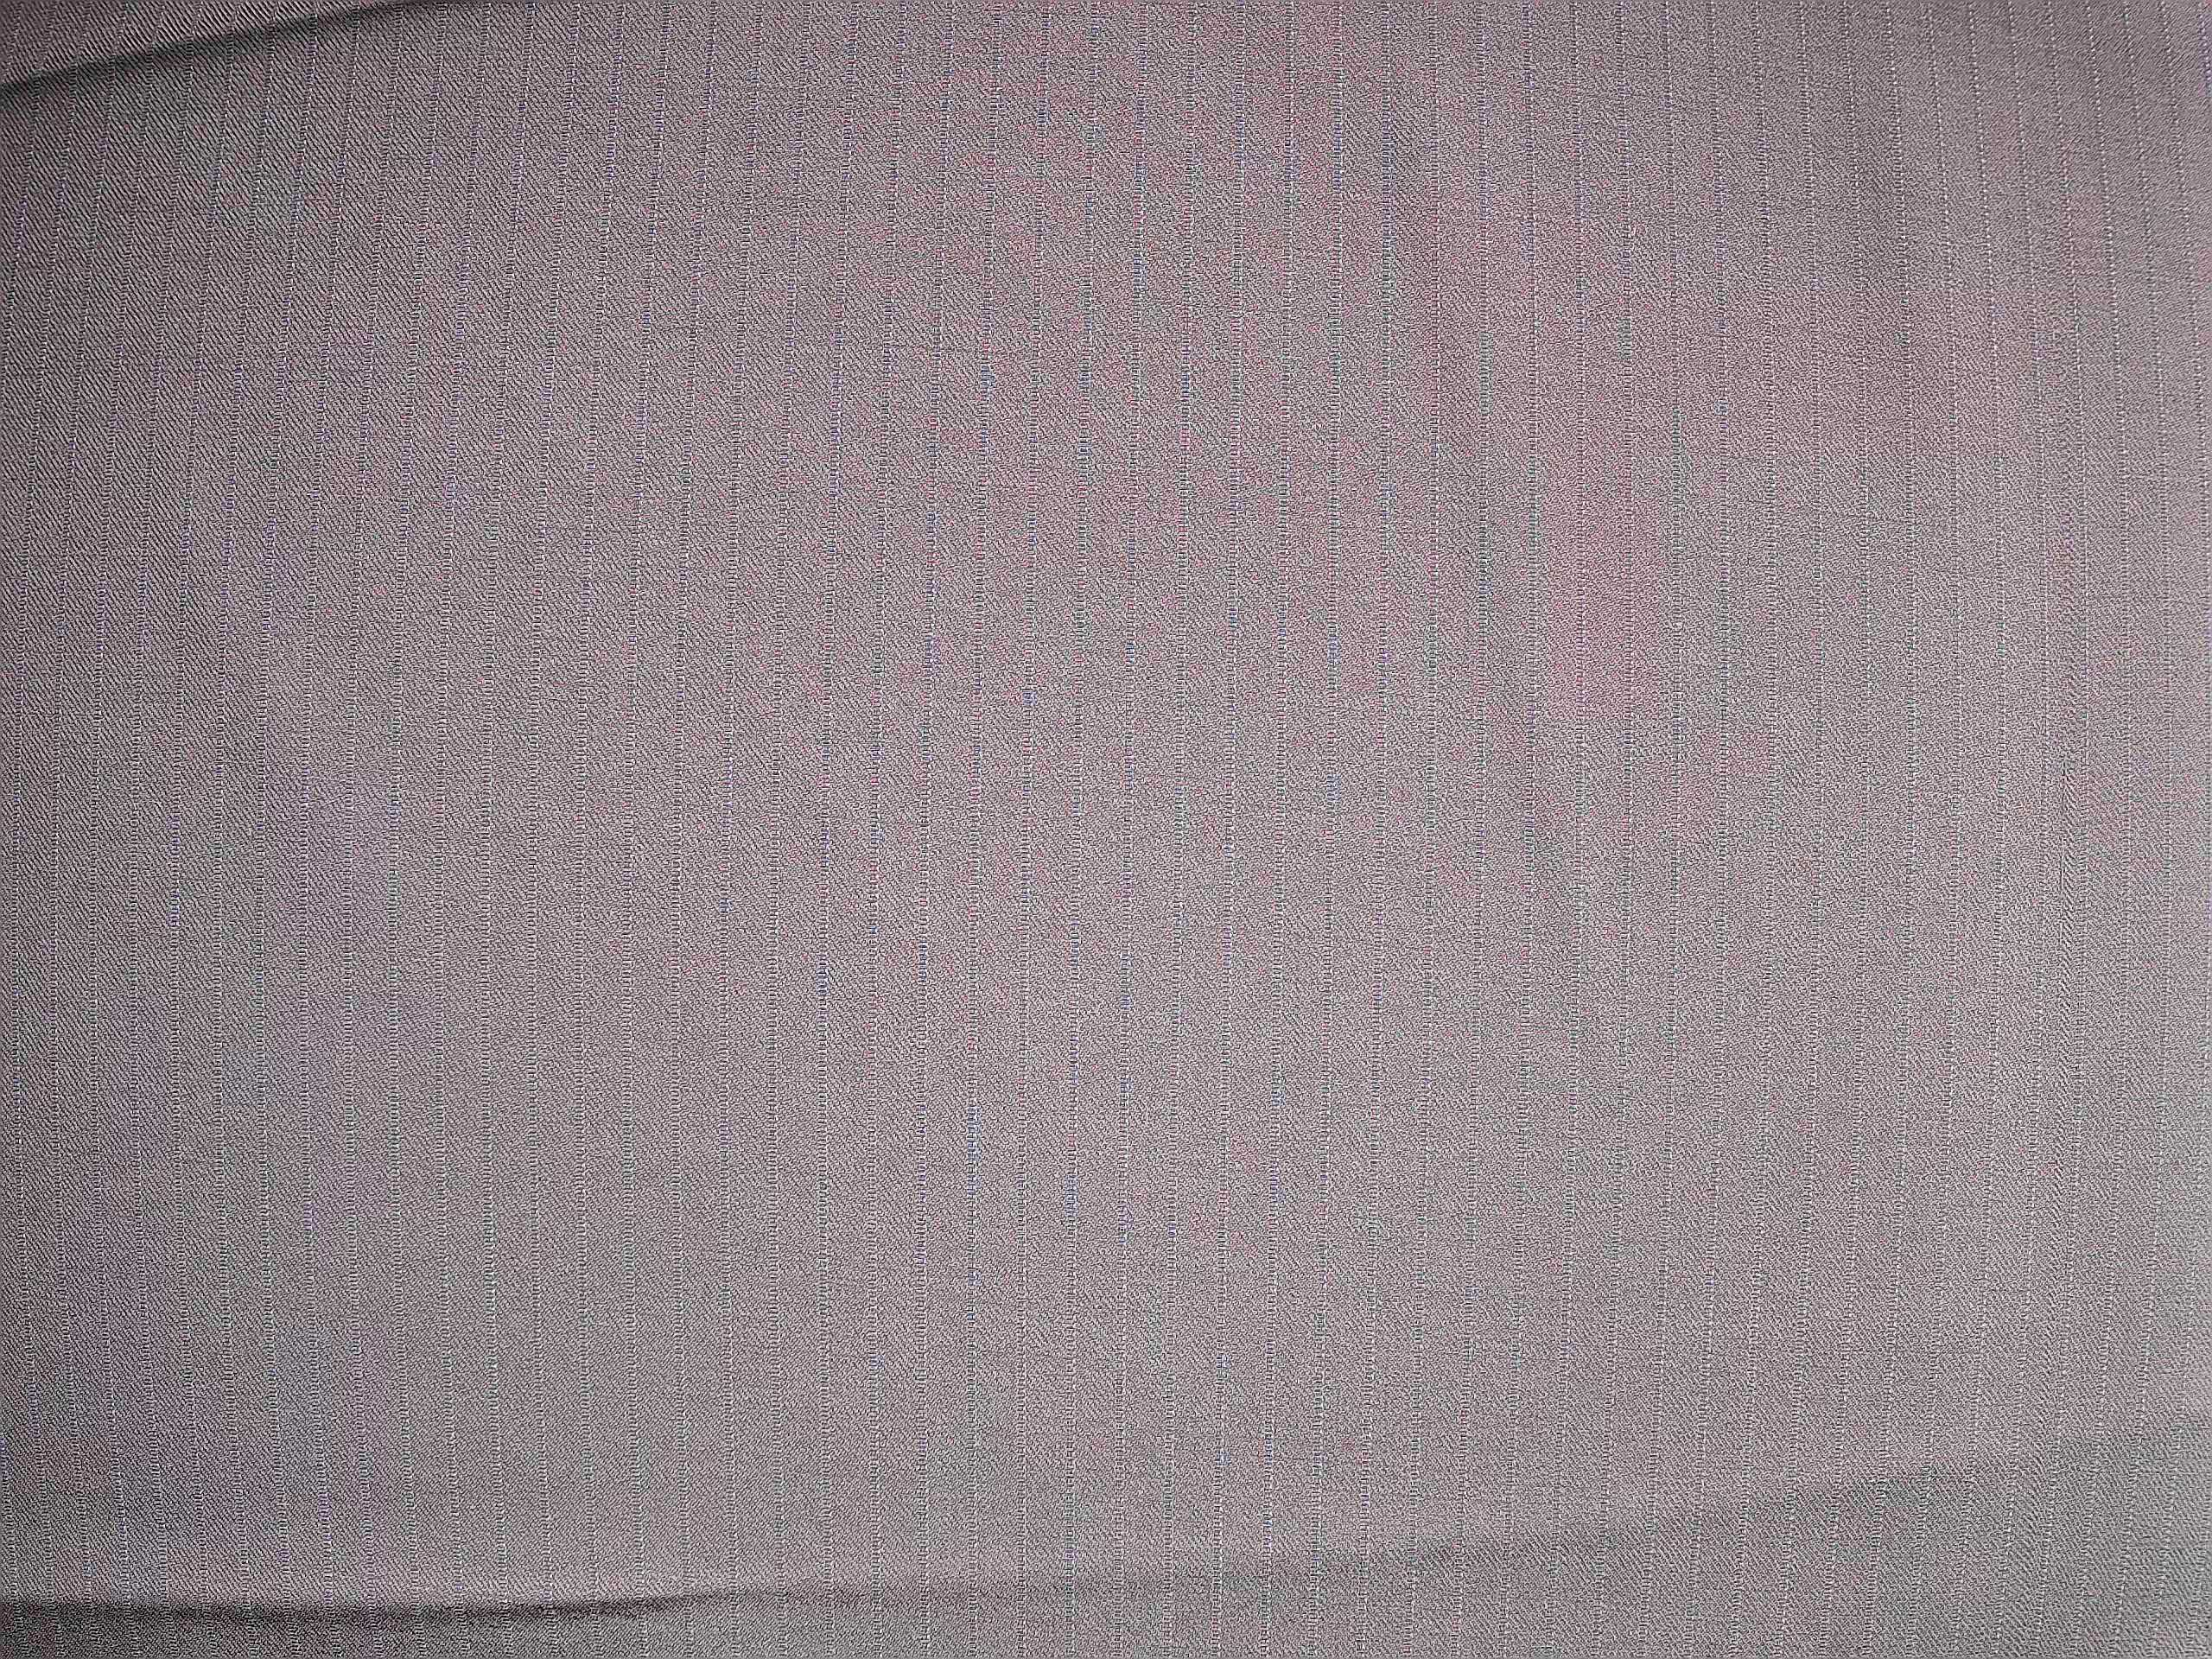hanging-warp: (2043, 530, 2087, 1425)
